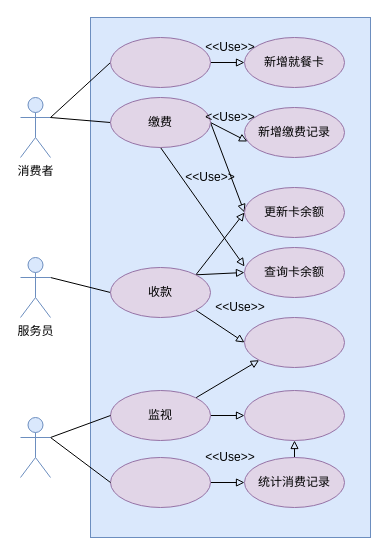
The diagram is 388 pixels wide and 555 high, and some of its shapes have lost their labels. The centre of each missing label's shape, as x and y in pixels:
"打印" goes at [160,482].
"新增消费记录" goes at [294,342].
"查询消费记录" goes at [294,415].
"注册" goes at [160,62].
"管理员" goes at [35,447].
